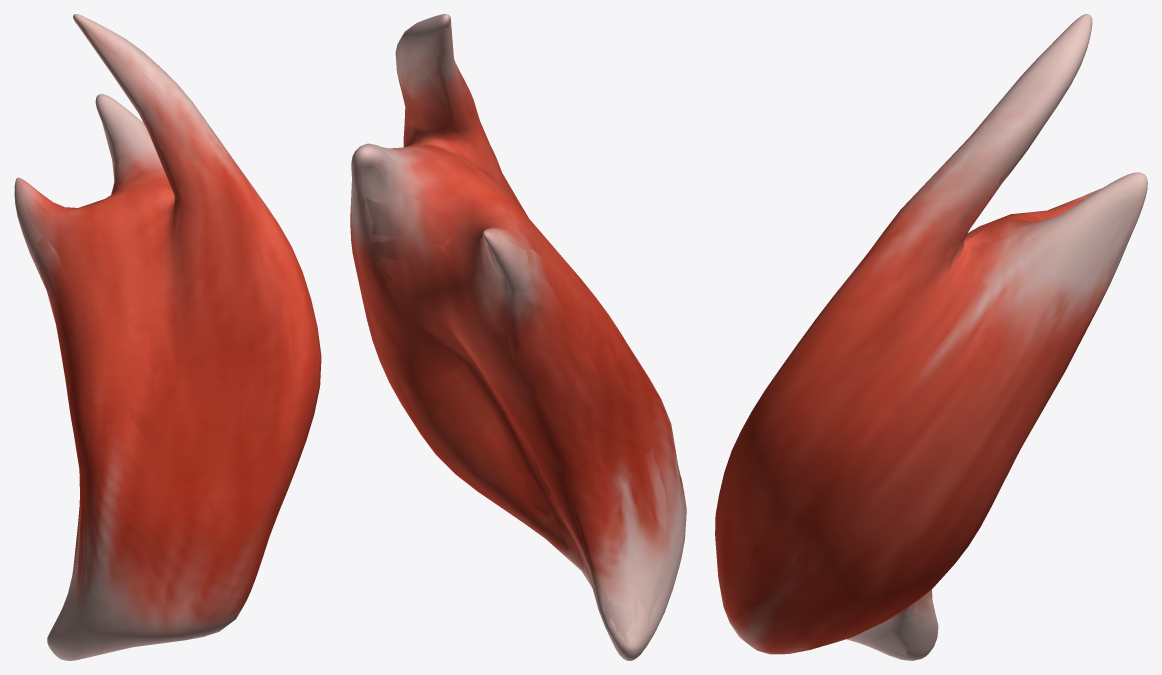
File: L Quadriceps Femoris.fbx
The picture shows the model from 3 angles, left to right: view 1: azimuth 30°, elevation 25°; view 2: azimuth 150°, elevation 25°; view 3: azimuth 270°, elevation 25°; orthographic projection. The views are drawn at different scales.
Parts seen in each view (by area): view 1: L Quadriceps Femoris, L Quadriceps Femoris low; view 2: L Quadriceps Femoris, L Quadriceps Femoris low; view 3: L Quadriceps Femoris, L Quadriceps Femoris low.
Part boxes in pixels (bbox=[...]): L Quadriceps Femoris: bbox=[14, 14, 321, 660]; L Quadriceps Femoris low: bbox=[22, 22, 313, 660]; L Quadriceps Femoris: bbox=[350, 14, 686, 660]; L Quadriceps Femoris low: bbox=[350, 22, 685, 660]; L Quadriceps Femoris: bbox=[715, 14, 1147, 660]; L Quadriceps Femoris low: bbox=[724, 17, 1142, 657].
Size of the model in its own units: 16.74 by 39.99 by 22.56.
